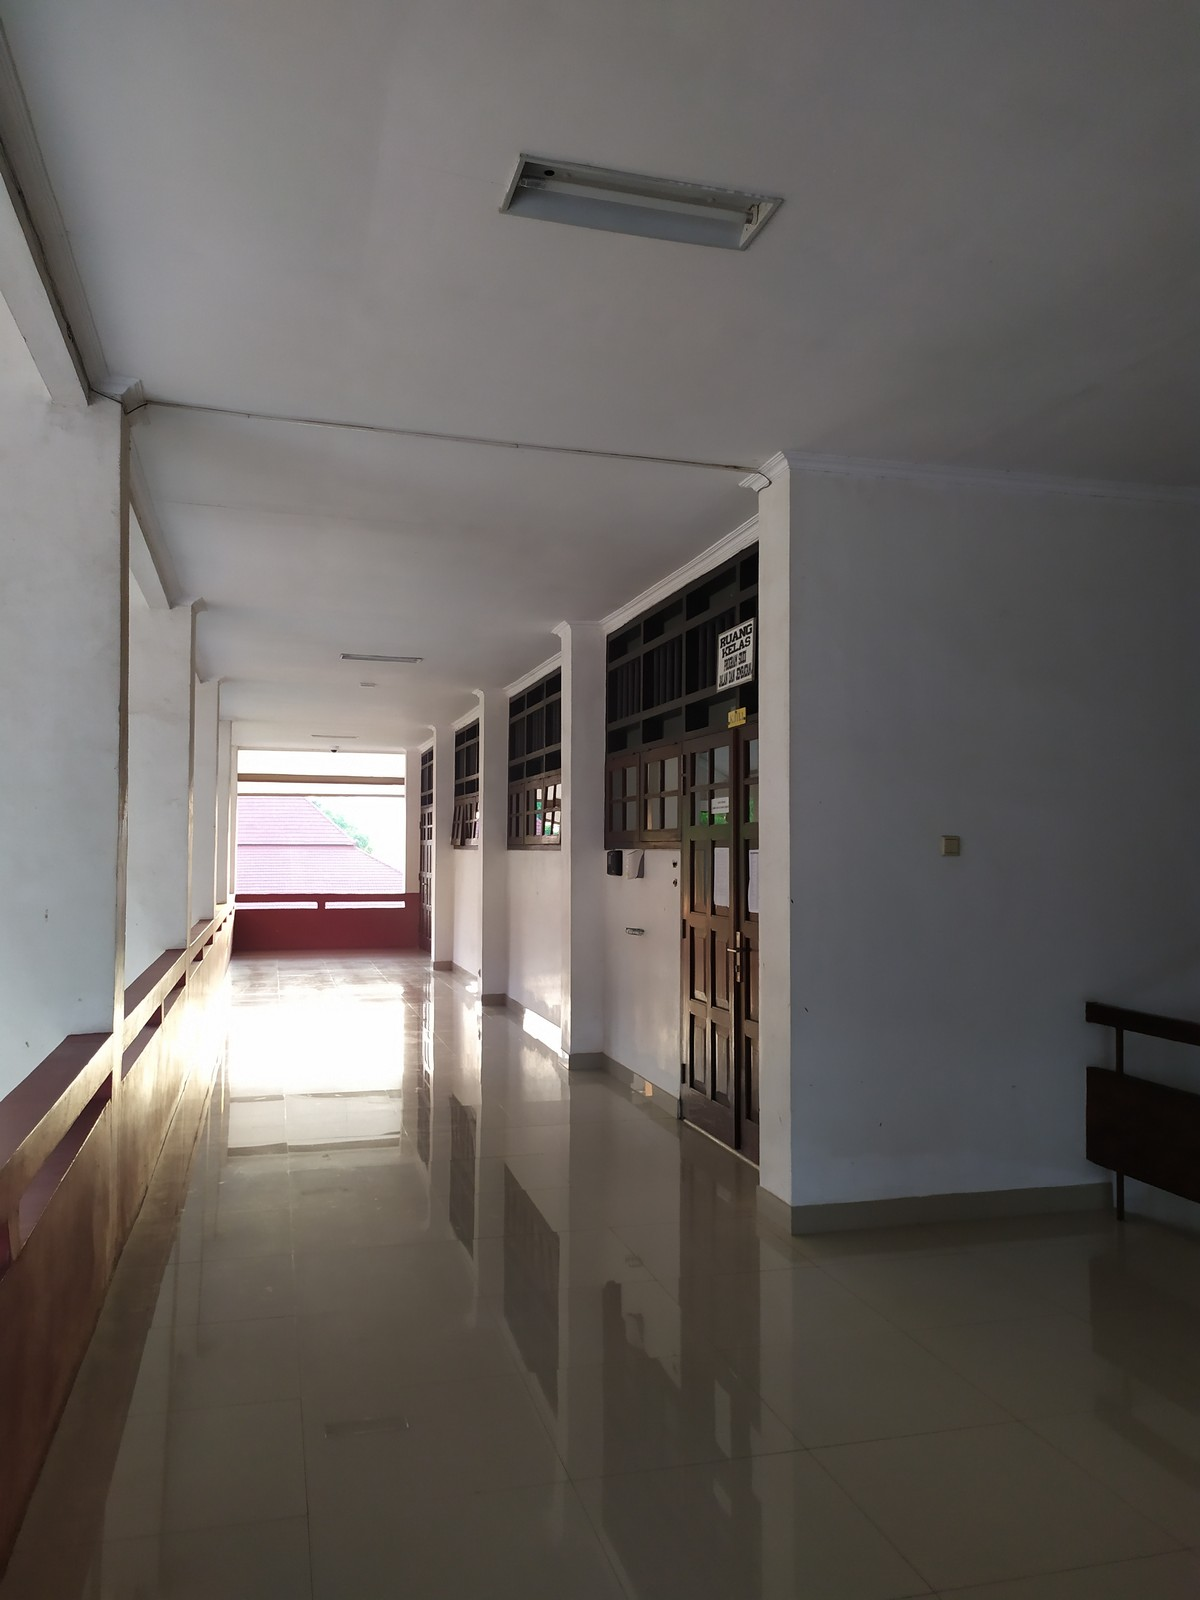concrete column: (550, 617, 611, 1078), (473, 687, 521, 1010), (430, 722, 461, 973)
